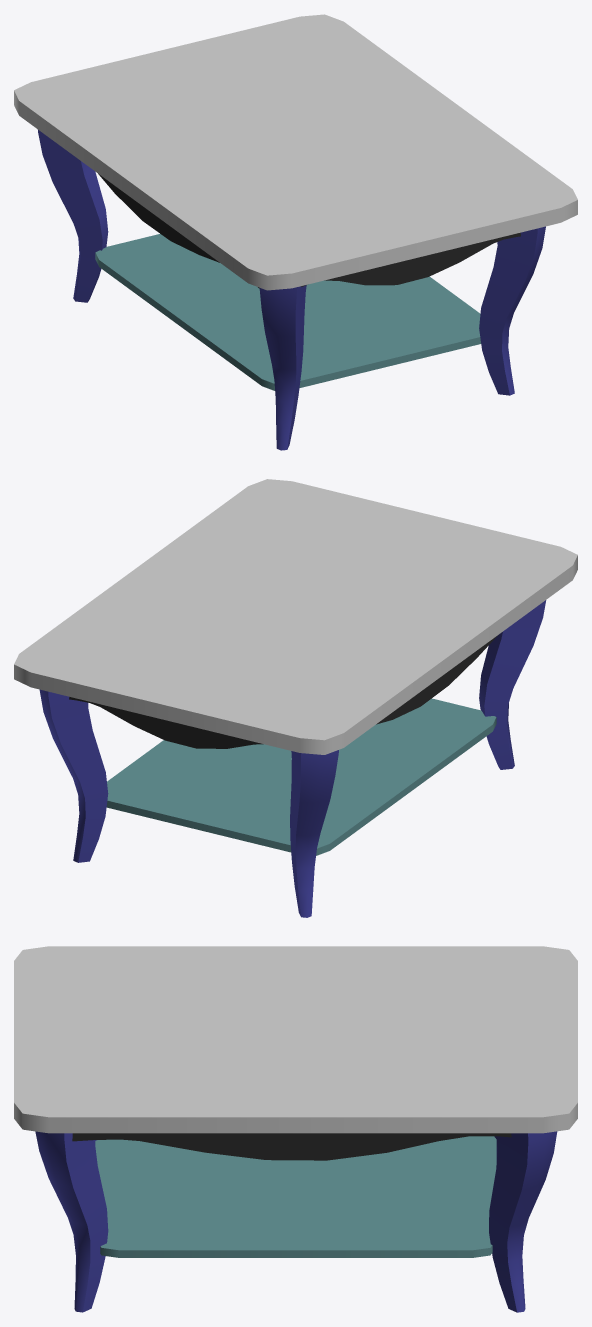
Rendered from coffee table.fbx.
3 renders of one model, top to bottom at view 1: azimuth 30°, elevation 25°; view 2: azimuth 150°, elevation 25°; view 3: azimuth 270°, elevation 25°, orthographic. The views are drawn at different scales.
Visible parts, largest first — view 1: Box001, Box002, Loft004, Line006; view 2: Box001, Box002, Loft004, Line006; view 3: Box001, Box002, Loft004, Line006.
Boxes of the visible parts, x1=… form: Box001: x1=14, y1=14, x2=577, y2=290; Box002: x1=95, y1=234, x2=481, y2=390; Loft004: x1=37, y1=129, x2=545, y2=450; Line006: x1=98, y1=173, x2=520, y2=288; Box001: x1=14, y1=479, x2=577, y2=754; Box002: x1=106, y1=698, x2=496, y2=855; Loft004: x1=39, y1=600, x2=546, y2=917; Line006: x1=69, y1=635, x2=497, y2=748; Box001: x1=14, y1=946, x2=577, y2=1133; Box002: x1=95, y1=1136, x2=496, y2=1257; Loft004: x1=35, y1=1131, x2=557, y2=1312; Line006: x1=72, y1=1133, x2=511, y2=1160.
Bounding box in the file's own units: 135 × 80.56 × 188.
